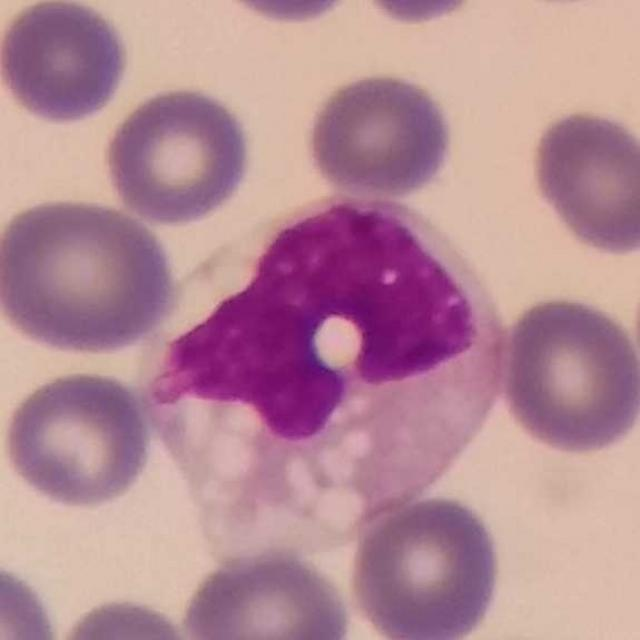Monocyte: (145, 197, 510, 567)
RBC: (0, 191, 181, 358), (495, 290, 640, 460), (343, 491, 506, 640), (99, 80, 256, 228), (0, 365, 156, 513), (302, 68, 458, 200), (524, 105, 640, 259), (177, 542, 357, 640), (0, 0, 135, 128), (49, 591, 209, 640), (0, 554, 63, 639), (206, 0, 362, 27), (352, 0, 488, 28)
